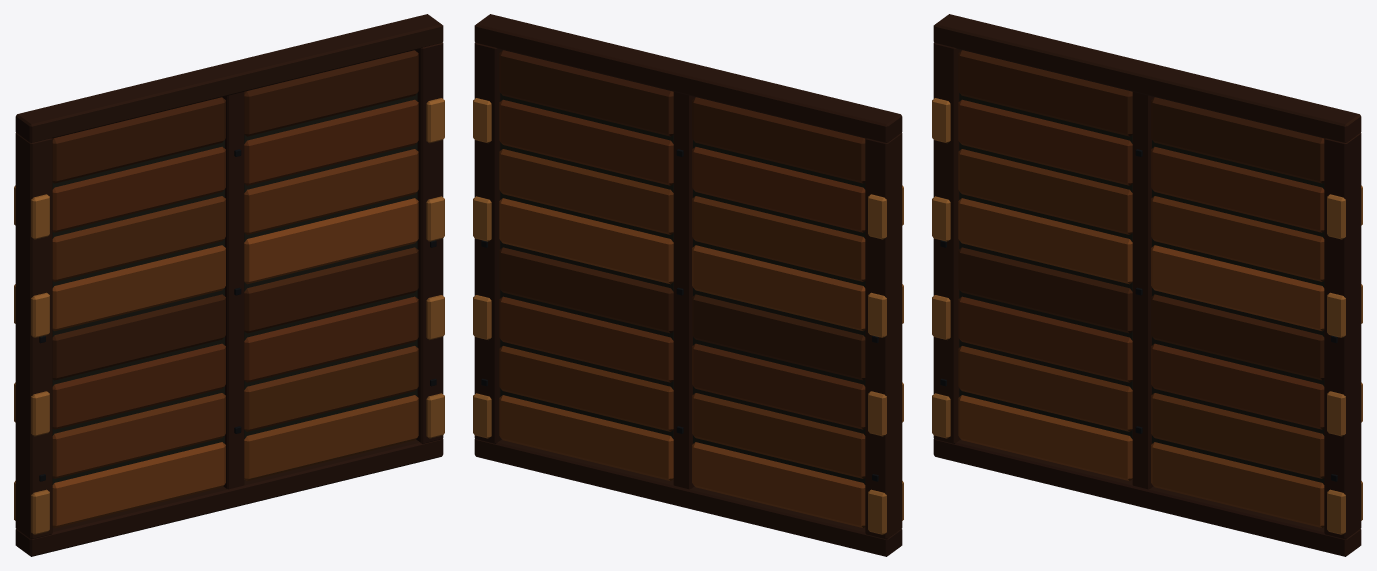
The model's file is mod_plank_wall_2x2m.glb.
The picture shows the model from 3 angles, left to right: view 1: azimuth 30°, elevation 25°; view 2: azimuth 150°, elevation 25°; view 3: azimuth 330°, elevation 25°; orthographic projection.
Parts seen in each view (by area): view 1: Mod_Plank_Wall_2x2m; view 2: Mod_Plank_Wall_2x2m; view 3: Mod_Plank_Wall_2x2m.
Boxes of the visible parts, bbox=[...] form: Mod_Plank_Wall_2x2m: bbox=[14, 14, 444, 556]; Mod_Plank_Wall_2x2m: bbox=[473, 14, 903, 556]; Mod_Plank_Wall_2x2m: bbox=[932, 14, 1362, 556].
Bounding box in the file's own units: 2 × 2 × 0.176.
